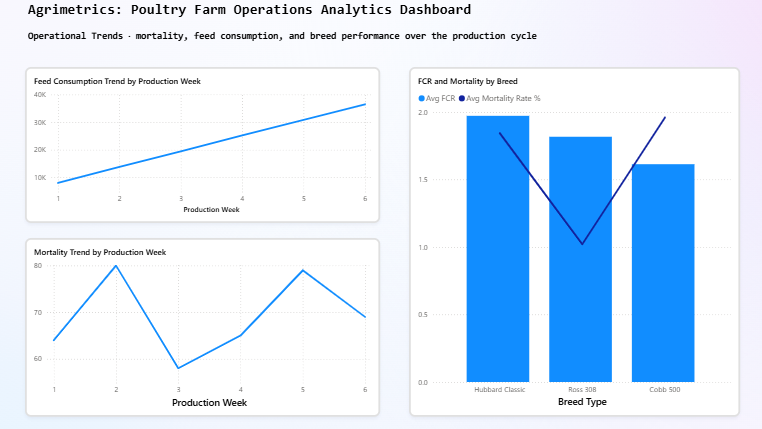

What the dashboard file says about the page in this screenshot:
{"tool":"powerbi","page":{"name":"Operational Trends Analysis","canvas":[1280,720],"ordinal":1},"visuals":[{"type":"lineChart","title":"Mortality Trend by Production Week","fields":{"Y":["_Measures.Total Mortality"],"Category":["daily_logs.Production Week"]},"box":[48.3,400,591.7,298.3],"z":0},{"type":"lineChart","title":"Feed Consumption Trend by Production Week","fields":{"Y":["_Measures.Total Feed Consumed (kg)"],"Category":["daily_logs.Production Week"]},"box":[48.3,115,591.7,260],"z":1000},{"type":"lineClusteredColumnComboChart","title":"FCR and Mortality by Breed","fields":{"Category":["batches.breed_type"],"Y":["_Measures.Avg FCR"],"Y2":["_Measures.Avg Mortality Rate %"]},"box":[688.3,115,551.7,583.3],"z":2000},{"type":"textbox","box":[48.3,0,848.3,48.3],"z":3000},{"type":"textbox","box":[48.3,48.3,912.1,37.9],"z":4000}]}

Visuals, with their boxes in screenshot pixels (x1, y1, x2, y2), scaled from the page's 1280x720 canvas onto the 762x429 screenshot:
"Mortality Trend by Production Week" lineChart: detection(29, 238, 381, 416)
"Feed Consumption Trend by Production Week" lineChart: detection(29, 69, 381, 223)
"FCR and Mortality by Breed" lineClusteredColumnComboChart: detection(410, 69, 738, 416)
textbox: detection(29, 0, 534, 29)
textbox: detection(29, 29, 572, 51)
